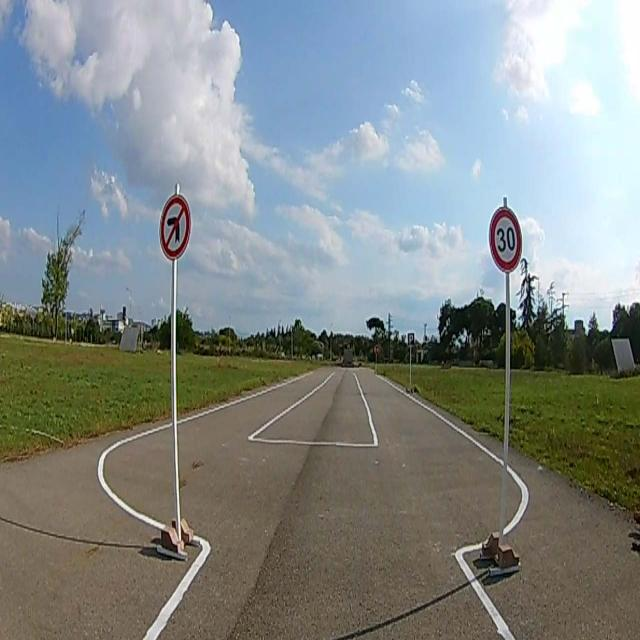30: (489, 209, 522, 270)
soladonulmez: (160, 195, 190, 257)
